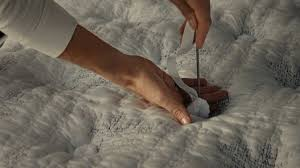bed-matress: (1, 1, 299, 168)
